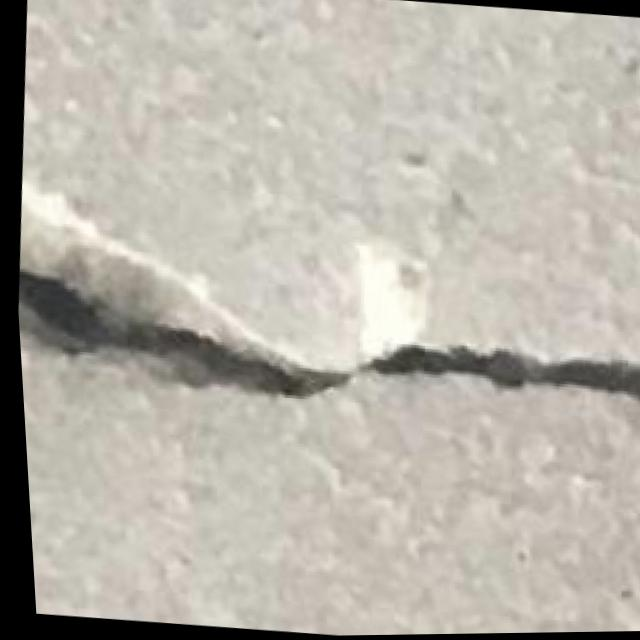Crack: (11, 225, 640, 450)
